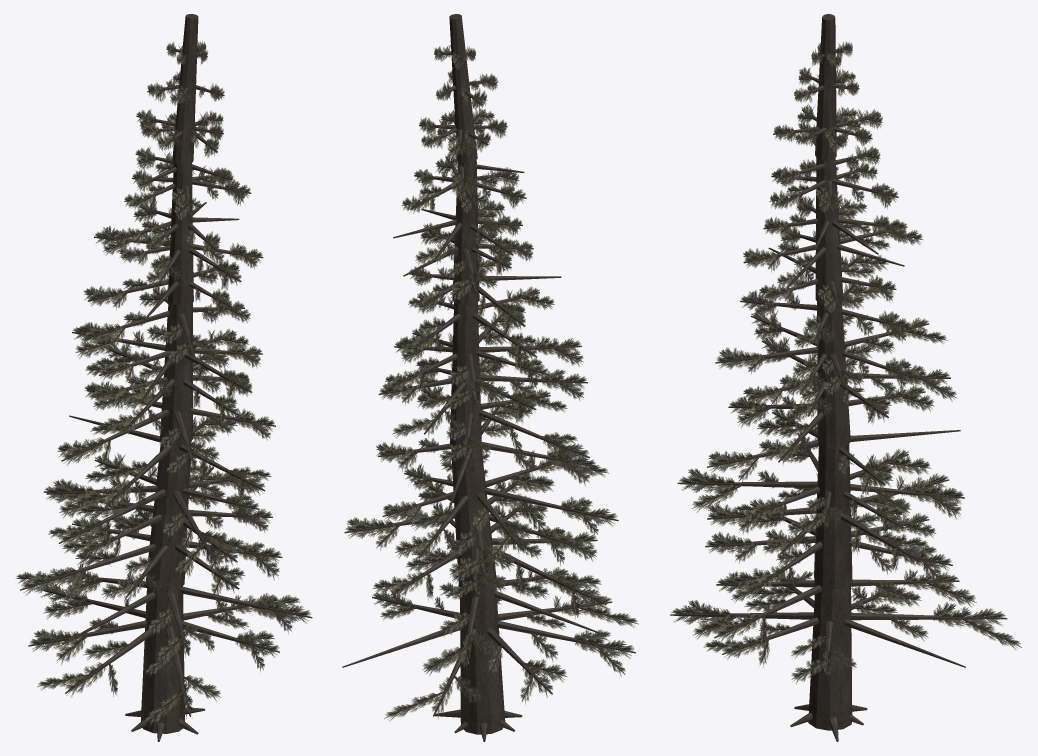
The model's file is widowpine_tree_b.glb.
The picture shows the model from 3 angles, left to right: view 1: azimuth 30°, elevation 25°; view 2: azimuth 150°, elevation 25°; view 3: azimuth 270°, elevation 25°; orthographic projection. The views are drawn at different scales.
Visible parts, largest first — view 1: WidowpineTreeB; view 2: WidowpineTreeB; view 3: WidowpineTreeB.
Boxes of the visible parts, x1=… form: WidowpineTreeB: x1=16, y1=14, x2=312, y2=741; WidowpineTreeB: x1=342, y1=14, x2=638, y2=741; WidowpineTreeB: x1=670, y1=14, x2=1021, y2=741.
Bounding box in the file's own units: 6.7 × 18.03 × 8.08.
2 materials, 2 textured.
